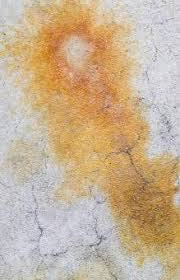Corrosion: (1, 1, 180, 280)
